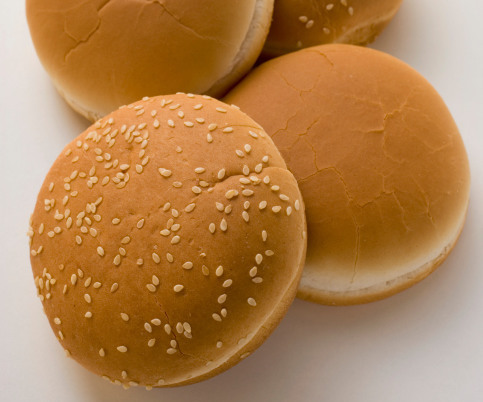hamburger_buns: (22, 83, 299, 401), (203, 38, 476, 304)
